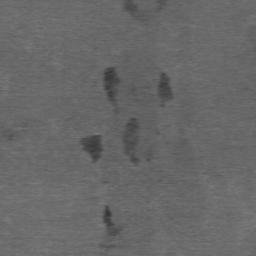Iron scale compression: (123, 118, 140, 167), (103, 206, 128, 237), (104, 67, 120, 111), (80, 135, 102, 164), (158, 72, 173, 109), (124, 0, 137, 12), (154, 0, 168, 8)
